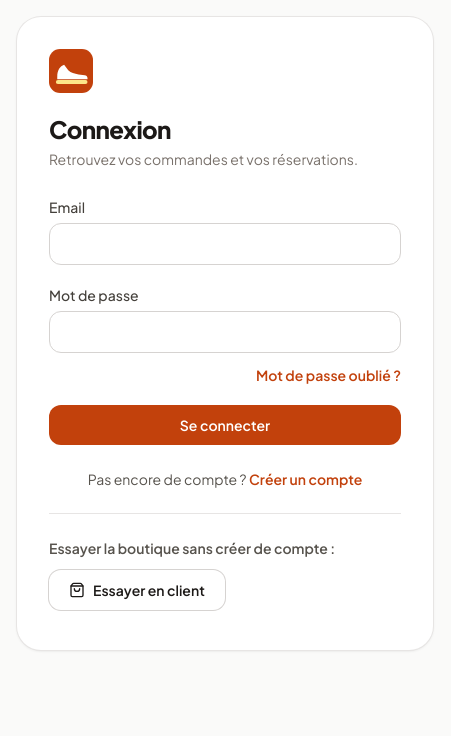
Scenario: LoginPage › affiche le message du serveur en cas d erreur
Type "awa@test.cm" into the field labelled "Email" at coordinates (225, 244), box [49,223,401,265]
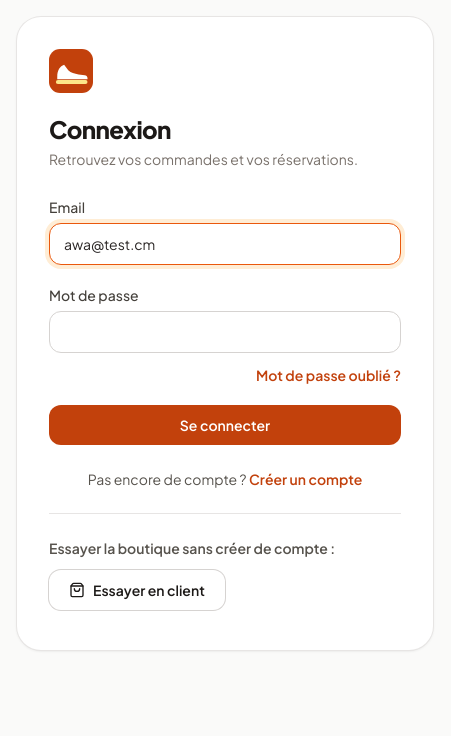
Type "mauvais" into the password field labelled "Mot de passe" at coordinates (225, 332), box [49,311,401,353]
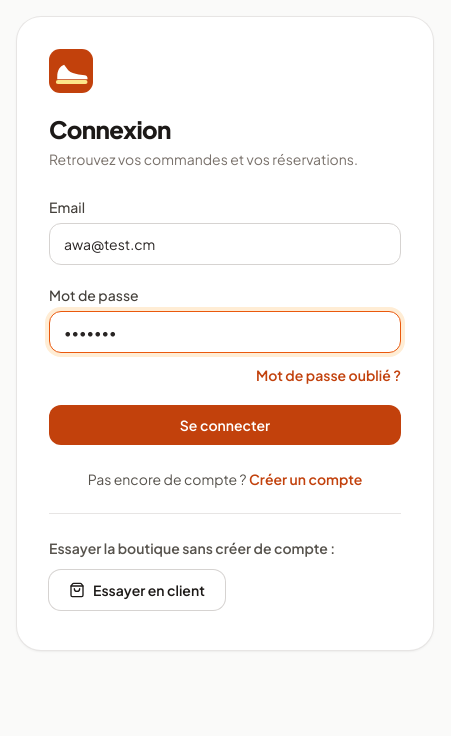
Click the button "Se connecter" at coordinates (225, 425), box [49,405,401,445]
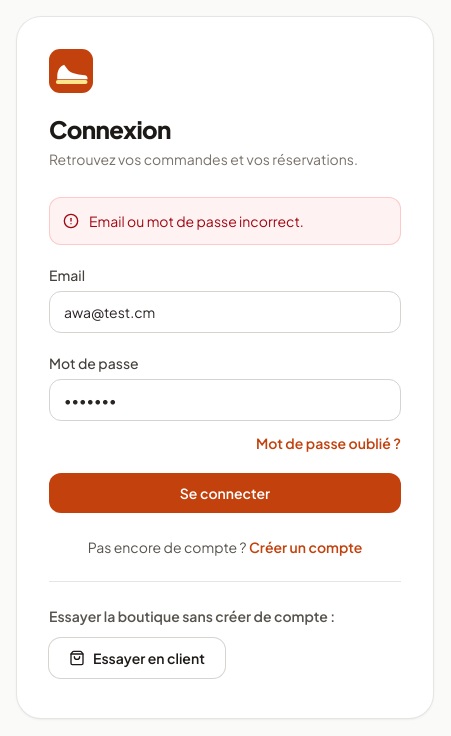
Expected: the message reads "Email ou mot de passe incorrect.", [89,212,304,230]
